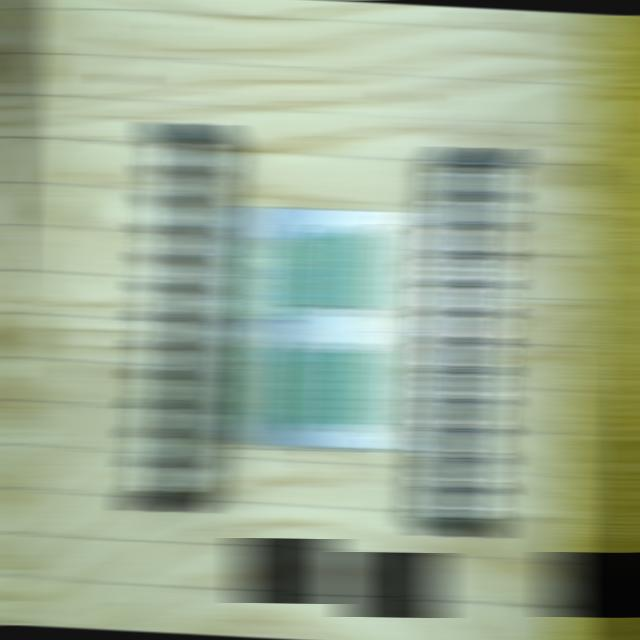Flathead_Block: (131, 120, 225, 515)
Phillips_Block: (425, 145, 516, 539)
Terminal_1: (246, 238, 289, 322), (242, 344, 283, 427)
Terminal_2: (340, 348, 380, 428), (298, 229, 338, 308), (316, 349, 356, 428), (321, 230, 361, 308), (292, 348, 331, 427)
